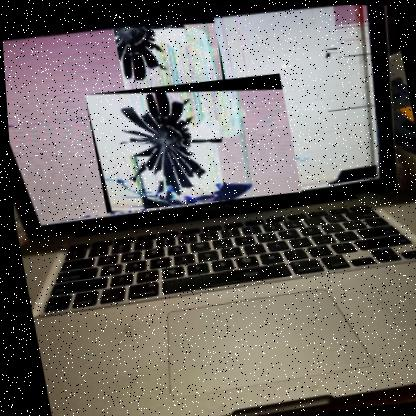crack: (82, 70, 301, 216)
lines: (112, 15, 234, 142)
spot: (319, 159, 390, 191), (320, 46, 339, 61)
